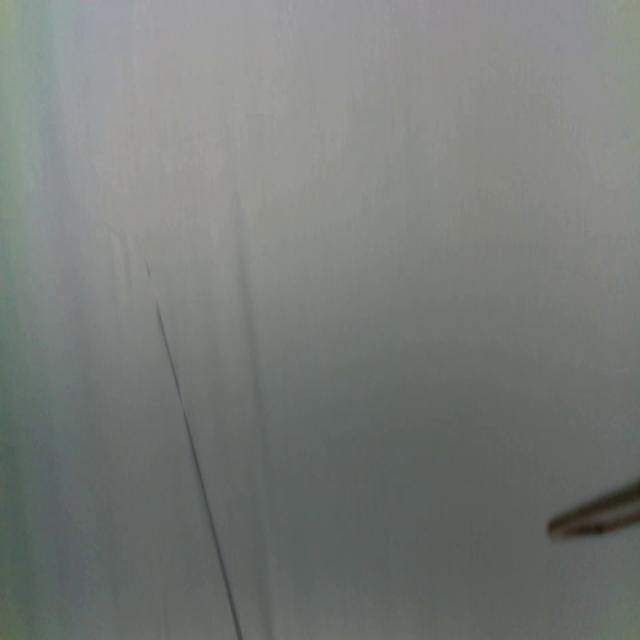crease: (156, 305, 244, 640)
